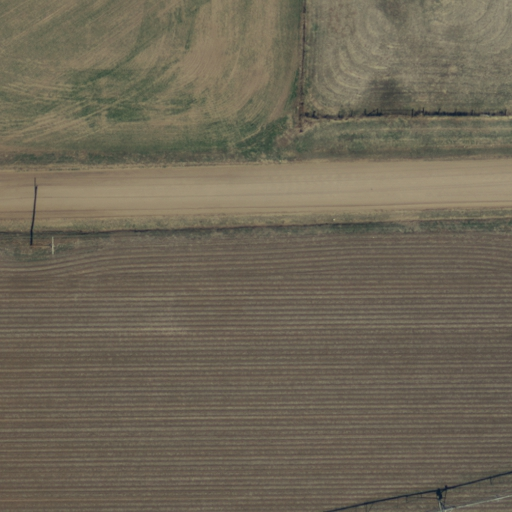DT: (26, 230, 60, 264)
